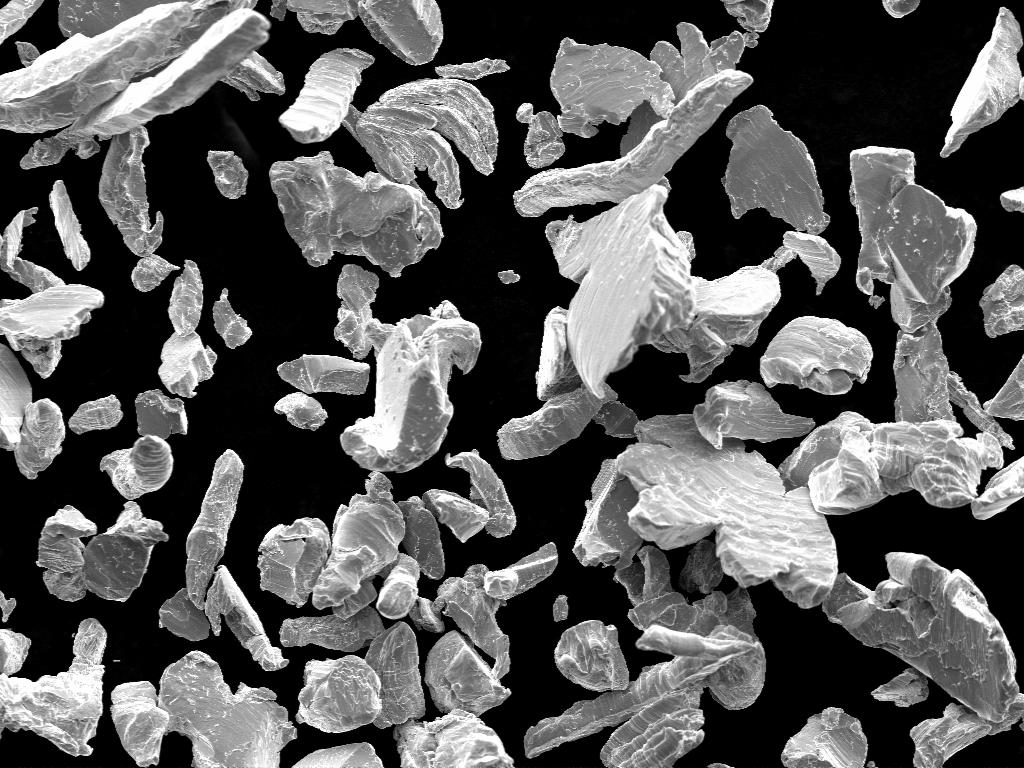Powder: (546, 184, 840, 398), (574, 380, 838, 608), (850, 146, 1012, 447), (514, 24, 752, 216), (0, 0, 270, 168), (822, 552, 1024, 766), (524, 624, 766, 767), (518, 26, 744, 168), (334, 264, 482, 472), (160, 450, 288, 670), (344, 58, 508, 208), (780, 412, 1002, 513), (110, 650, 296, 767), (270, 152, 442, 276), (498, 308, 638, 460), (410, 542, 558, 677), (0, 208, 104, 378), (0, 620, 104, 756), (722, 106, 830, 233), (312, 472, 406, 617), (36, 500, 168, 602), (98, 126, 178, 292), (614, 546, 754, 636), (940, 8, 1022, 157), (270, 0, 442, 65), (280, 48, 374, 143), (0, 344, 66, 478), (760, 316, 872, 394), (158, 260, 216, 397), (424, 630, 510, 715), (394, 708, 514, 768), (364, 622, 426, 728), (296, 656, 382, 732), (258, 518, 330, 605), (447, 450, 516, 538), (554, 620, 630, 692), (782, 708, 868, 768), (100, 434, 174, 500), (280, 606, 384, 651), (58, 0, 176, 38), (398, 496, 444, 579), (278, 354, 370, 394), (50, 180, 90, 270), (422, 490, 490, 542), (972, 456, 1024, 519), (980, 264, 1024, 338), (222, 52, 286, 101), (376, 554, 420, 619), (136, 390, 188, 439), (678, 538, 724, 593), (984, 356, 1024, 419), (212, 288, 252, 349), (294, 742, 382, 768), (68, 394, 122, 434), (274, 392, 328, 429), (208, 150, 248, 199), (0, 0, 43, 43), (722, 0, 773, 33), (882, 0, 920, 18), (1000, 186, 1024, 212), (17, 42, 40, 68), (0, 590, 16, 621), (552, 594, 568, 621), (498, 270, 520, 284)
